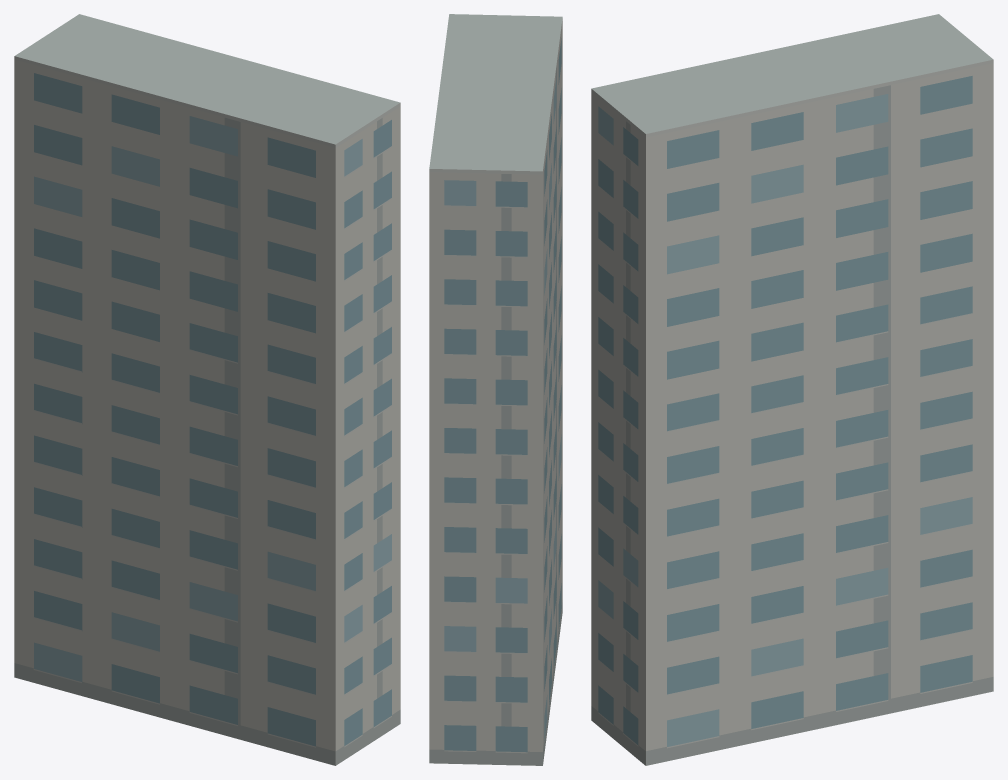
The model's file is residential-8f0c1595-359b-4a89-b2d1-c7da79b874f2.glb.
The picture shows the model from 3 angles, left to right: view 1: azimuth 30°, elevation 25°; view 2: azimuth 150°, elevation 25°; view 3: azimuth 270°, elevation 25°; orthographic projection. The views are drawn at different scales.
Parts seen in each view (by area): view 1: residential-8f0c1595-359b-4a89-b2d1-c7da79b874f2.tmp; view 2: residential-8f0c1595-359b-4a89-b2d1-c7da79b874f2.tmp; view 3: residential-8f0c1595-359b-4a89-b2d1-c7da79b874f2.tmp.
Part boxes in pixels (left/top/right/bottom): residential-8f0c1595-359b-4a89-b2d1-c7da79b874f2.tmp: left=14, top=14, right=400, bottom=765; residential-8f0c1595-359b-4a89-b2d1-c7da79b874f2.tmp: left=429, top=14, right=562, bottom=765; residential-8f0c1595-359b-4a89-b2d1-c7da79b874f2.tmp: left=591, top=14, right=993, bottom=765.
Bounding box in the file's own units: 17.53 × 43 × 24.82.
